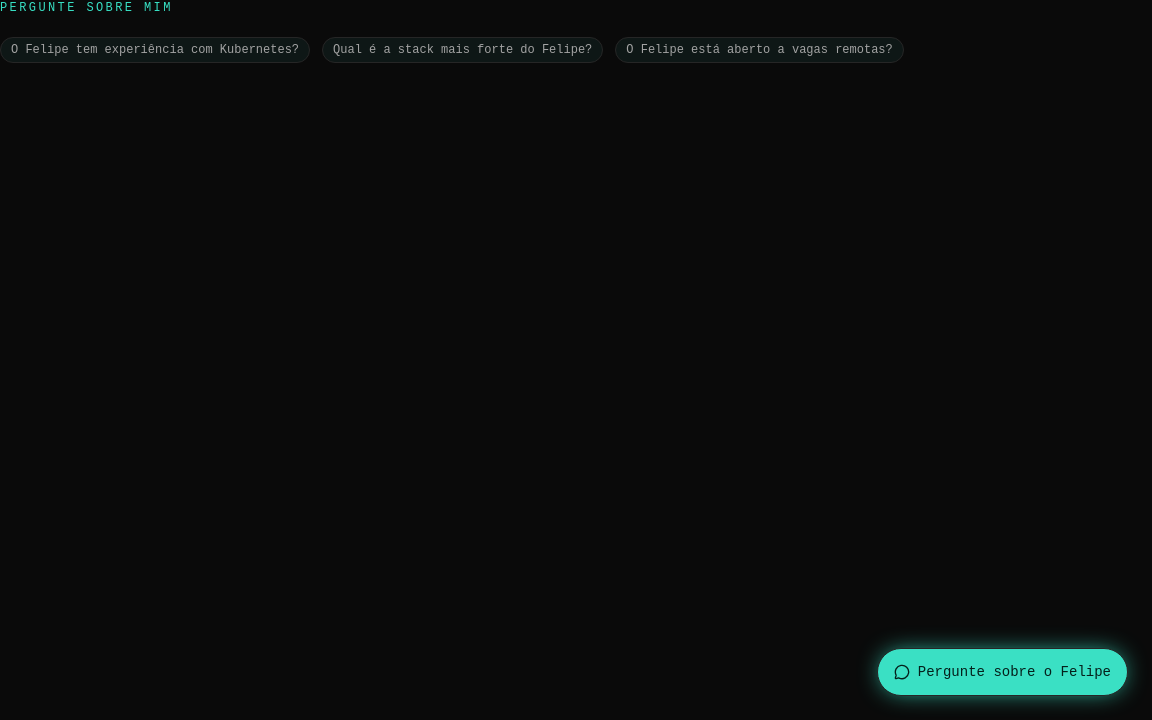
AskChips › renders pt-BR chip labels and still submits correctly
What coordinates should you click on to do the following:
click the button "O Felipe está aberto a vagas remotas?"
I would click on:
 (760, 50)
Its box is [615, 28, 904, 72].
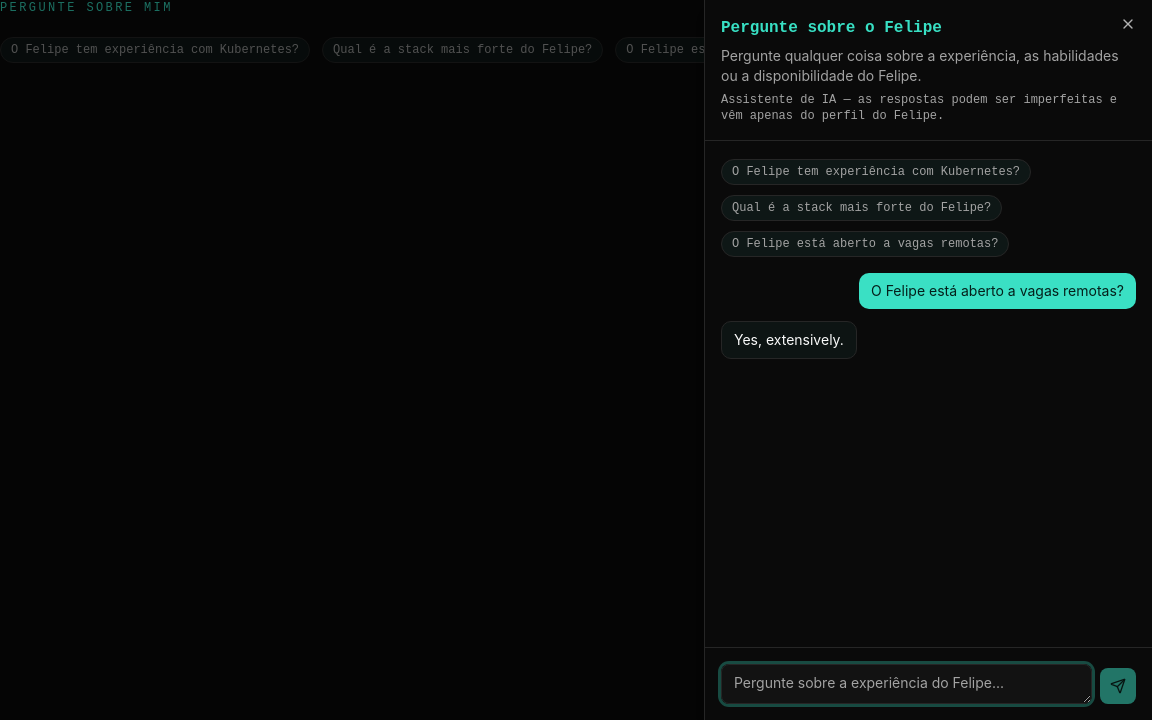
Now the text "Assistente de IA" is shown, box [721, 93, 1117, 123]
